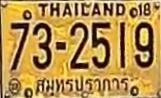1: (119, 22, 125, 68)
2: (69, 22, 88, 68)
3: (32, 22, 51, 68)
5: (91, 21, 110, 68)
7: (10, 22, 29, 70)
9: (134, 21, 153, 67)
SPK: (35, 74, 129, 95)
